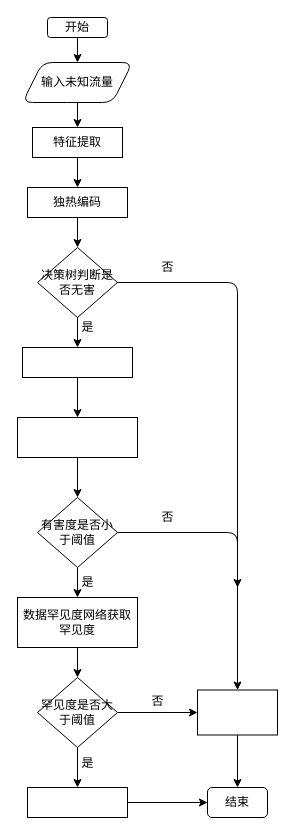
Some shapes in this 295 by 835 pixel diagram are drawn without their labels. The shapes that lost their labels are listed below. From the top down, each one's box as (x1, y1, x2, y2) in pixels, then its label:
(22, 346, 132, 378): 更新罕见度网络
(16, 416, 138, 458): 数据有害度网络获取有害度
(196, 689, 278, 735): 判定为DDoS攻击
(26, 786, 128, 818): 判定为正常流量
